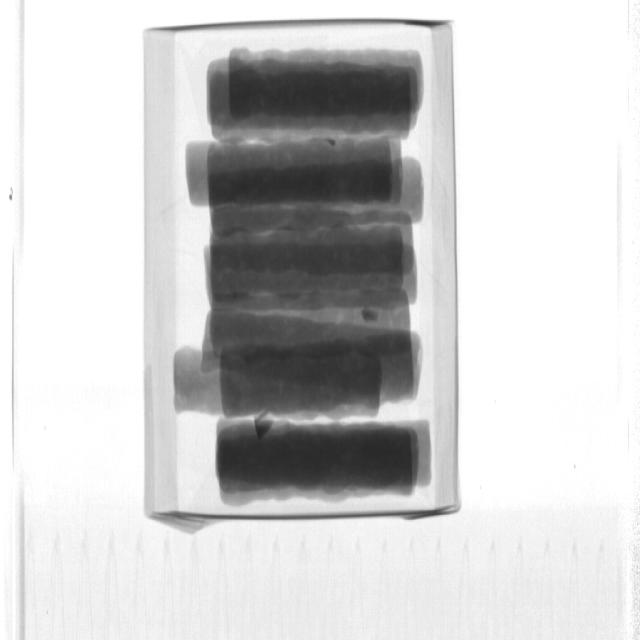ym: (257, 412, 275, 440), (362, 309, 378, 323), (328, 140, 337, 147)
